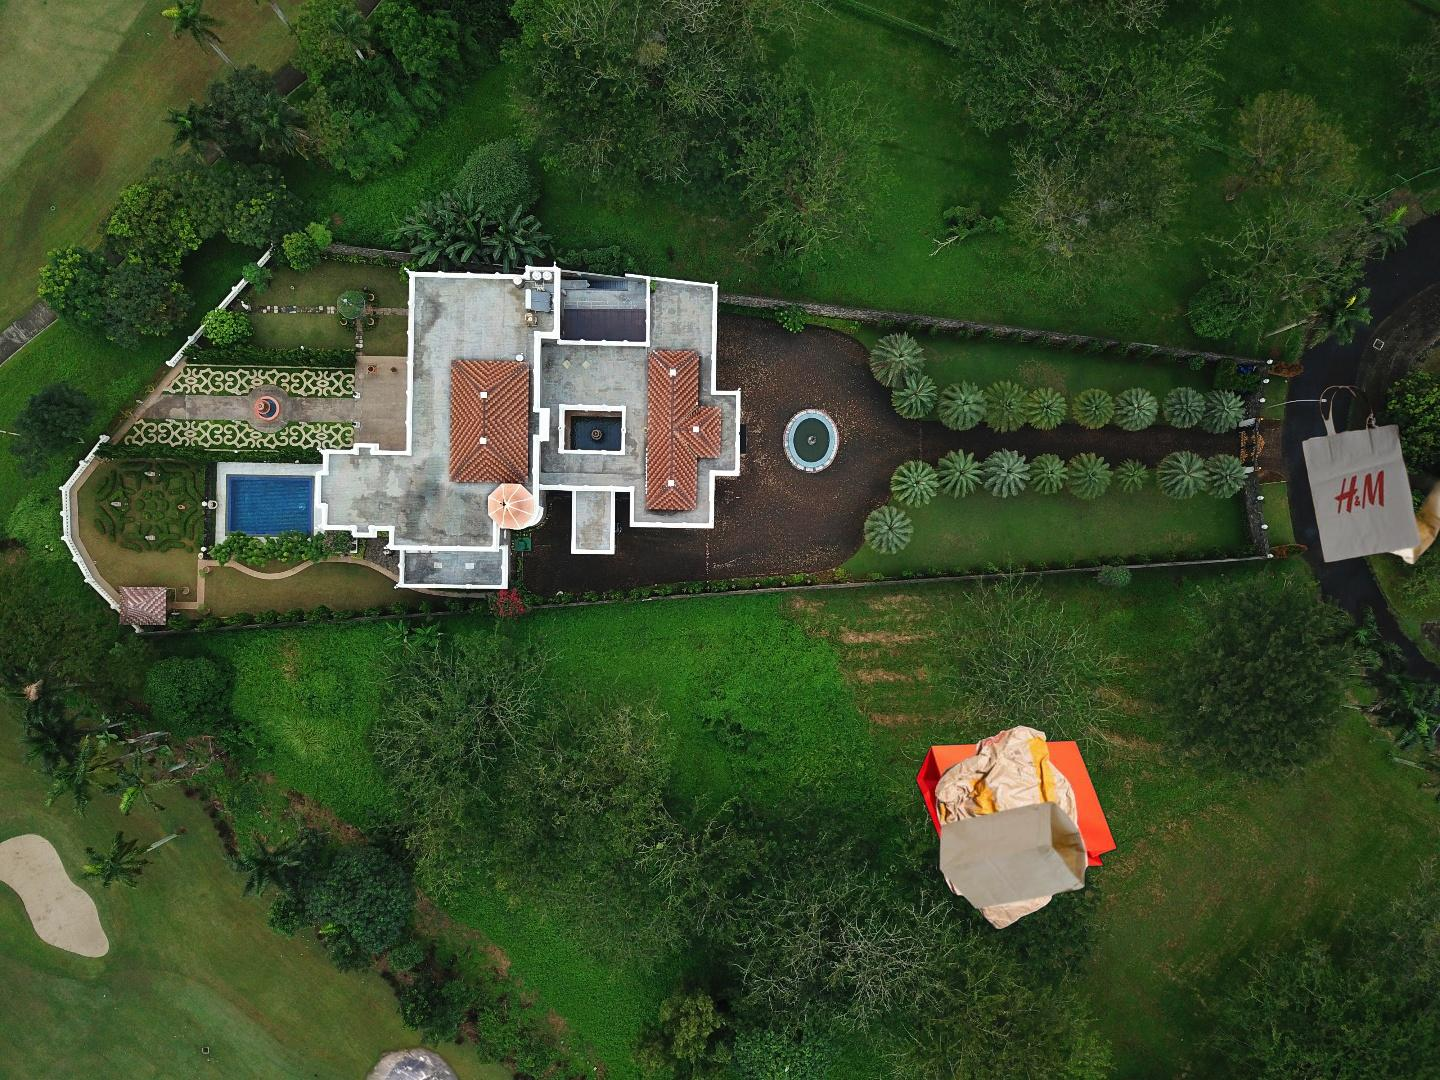paper-bag: (913, 722, 1118, 933), (1299, 382, 1440, 567)
plastic-bottles: (361, 1040, 789, 1080)
